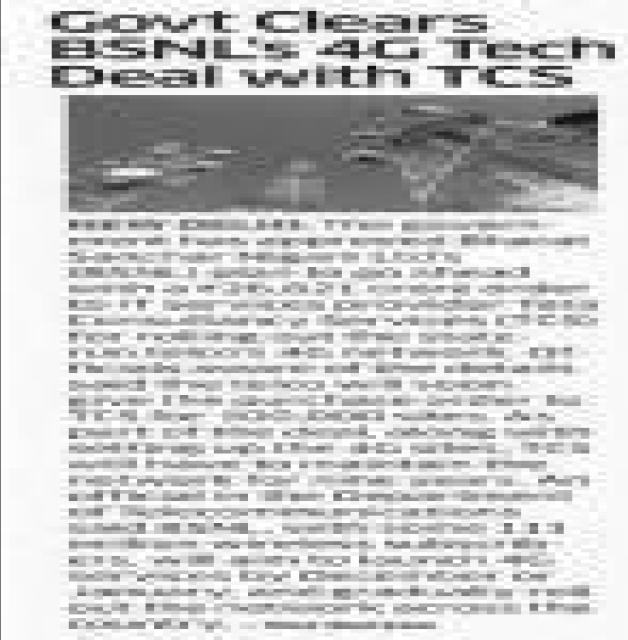paper: (1, 0, 628, 640)
